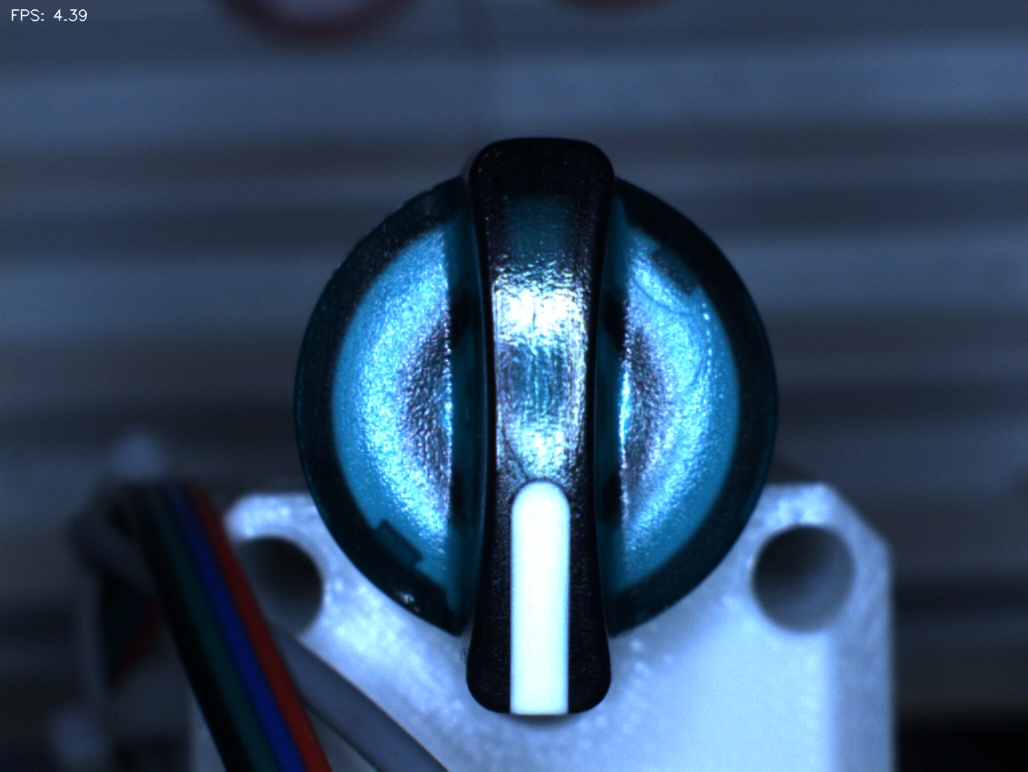Choc: (370, 558, 444, 632)
